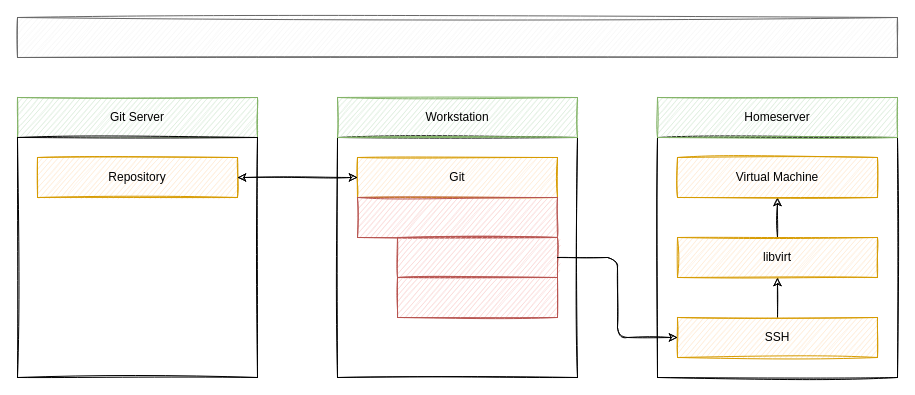
Image size: 915x395. Some labels were removed from this diagram. The shapes that lost their labels are listed below. From the top down, each one's box as (x1, y1, x2, y2) in pixels, then its label:
(16, 16, 898, 58): Ansible - Create VM from Cloud Image
(356, 196, 558, 238): Ansible
(396, 236, 558, 278): create_vm.yml
(396, 276, 558, 318): {{ templates }}
